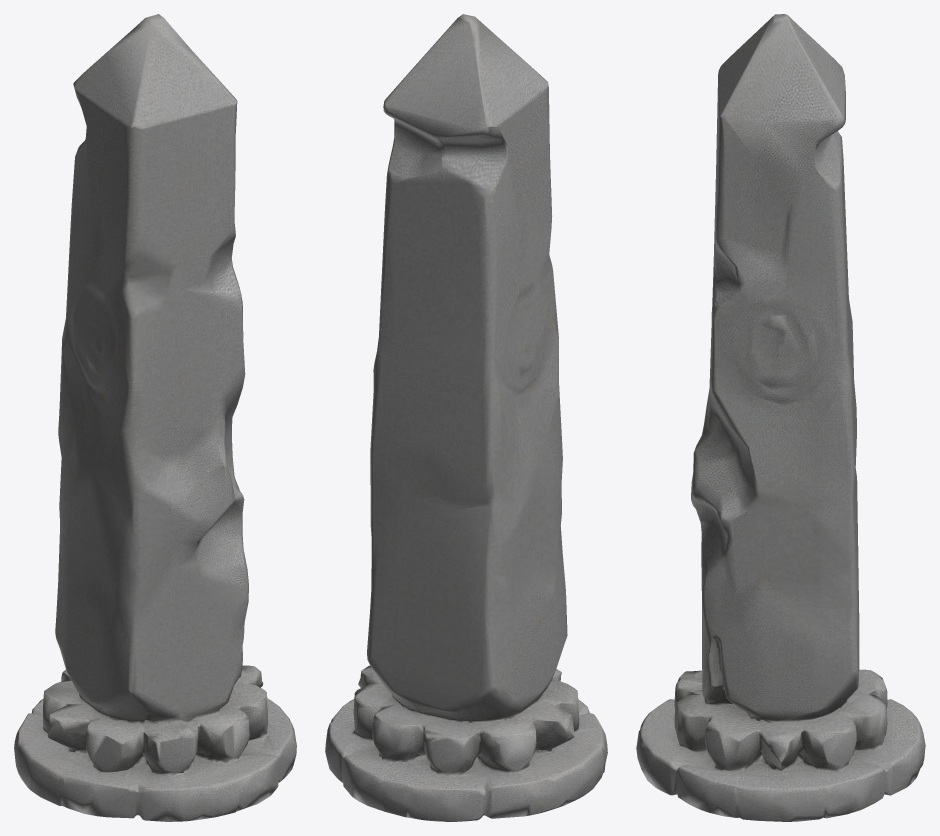
Rendered from prp_lm_waystone.glb.
3 renders of one model, left to right at view 1: azimuth 30°, elevation 25°; view 2: azimuth 150°, elevation 25°; view 3: azimuth 270°, elevation 25°, orthographic.
Parts seen in each view (by area): view 1: prp_lm_waystone; view 2: prp_lm_waystone; view 3: prp_lm_waystone.
Boxes of the visible parts, x1,y1,x2,y2 form: prp_lm_waystone: [14, 14, 296, 821]; prp_lm_waystone: [325, 14, 607, 821]; prp_lm_waystone: [636, 14, 925, 821].
Bounding box in the file's own units: 1.74 × 5 × 1.76.
1 material, 1 textured.
